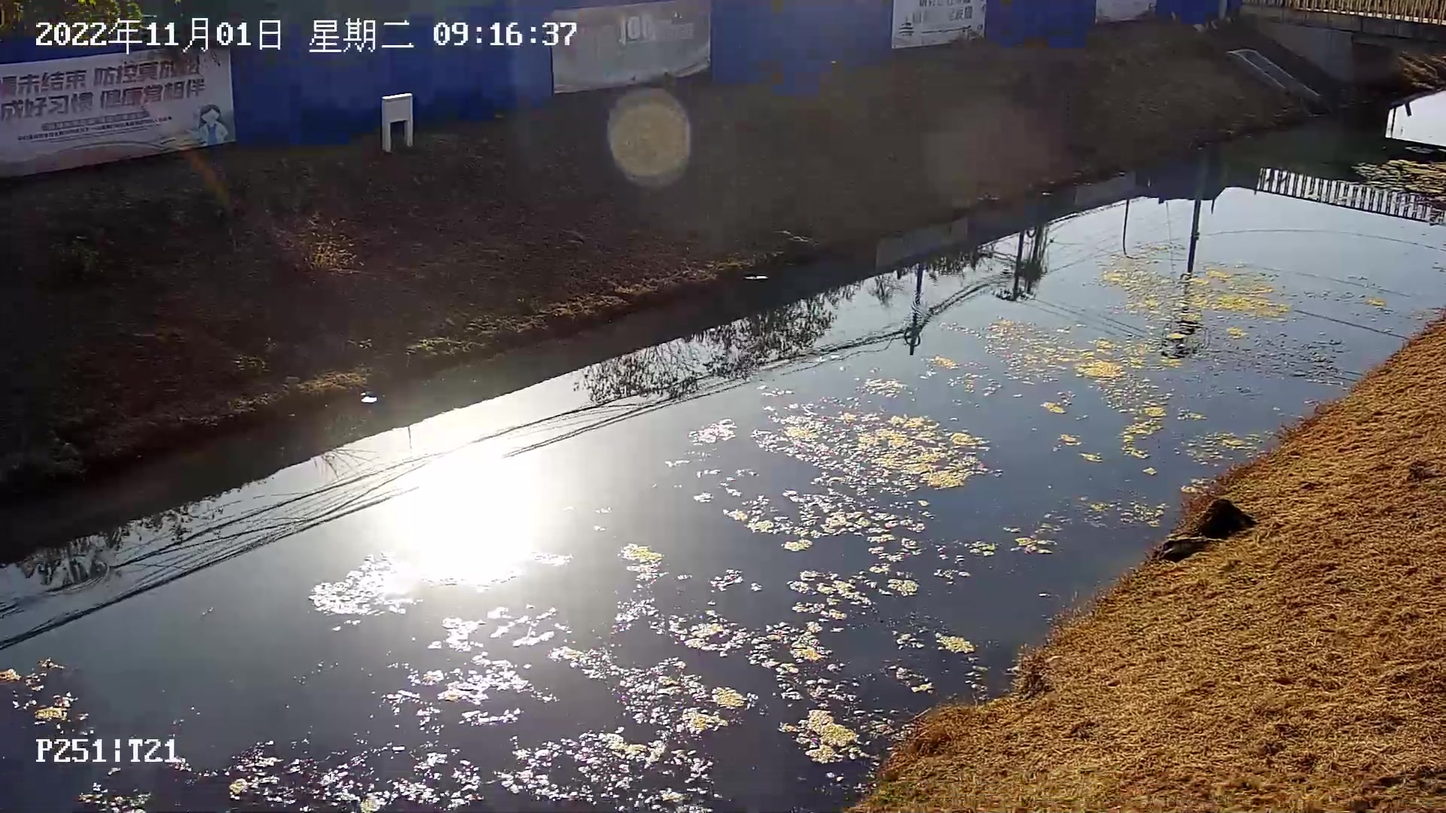floater: (683, 349, 988, 499), (970, 309, 1176, 455), (391, 656, 747, 733), (672, 562, 925, 668), (220, 734, 483, 813), (947, 494, 1174, 574), (496, 735, 725, 813), (1096, 241, 1300, 320), (722, 497, 941, 560), (306, 547, 418, 626), (444, 607, 574, 654), (2, 658, 83, 731), (613, 539, 662, 636), (789, 708, 861, 766), (936, 629, 981, 659)
